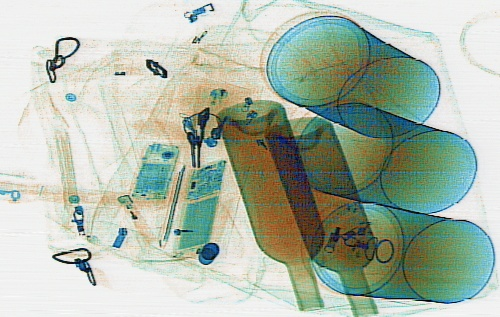lighter: (115, 190, 158, 237)
